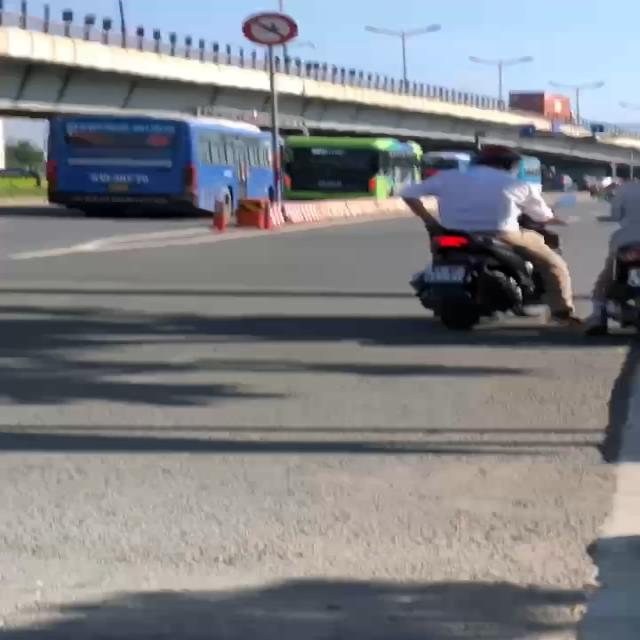Bien bao cam xe may: (239, 9, 308, 47)
